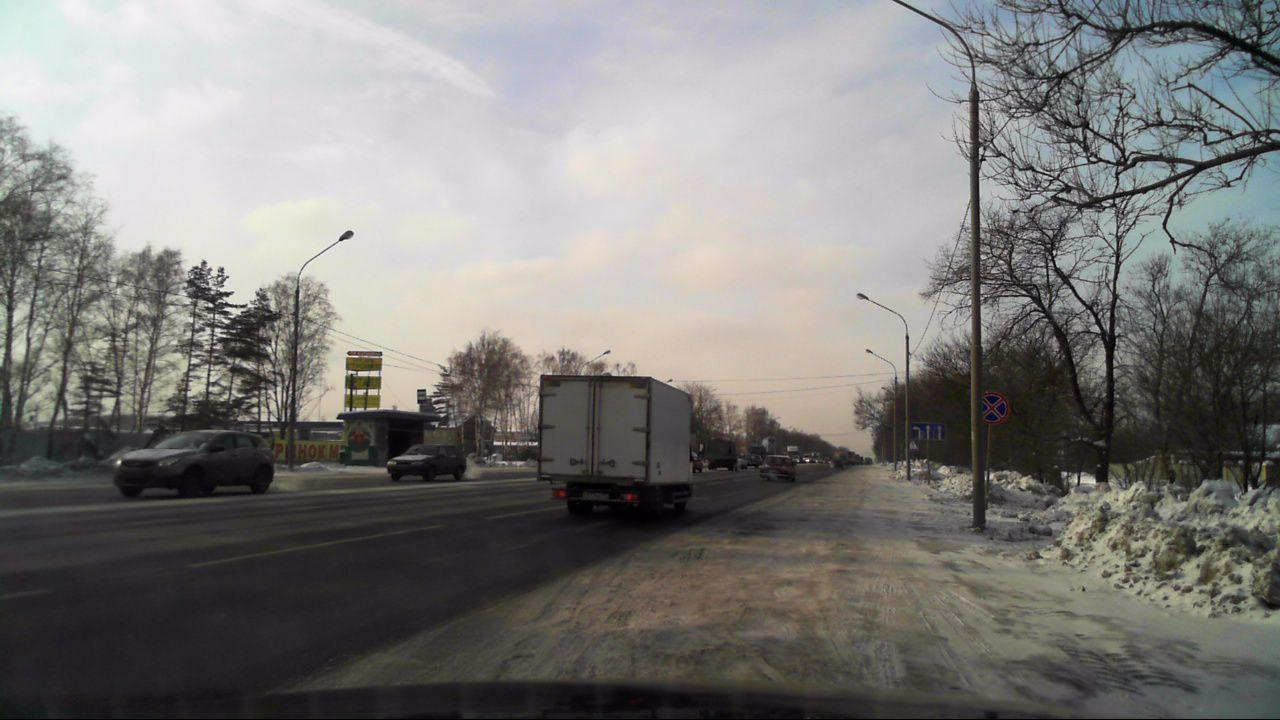3_27: (977, 389, 1011, 425)
5_15_1: (911, 422, 947, 443)
5_16: (417, 389, 427, 404)
